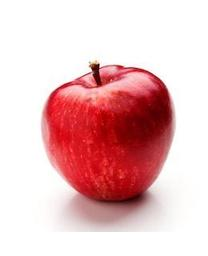apple: (40, 61, 176, 201)
